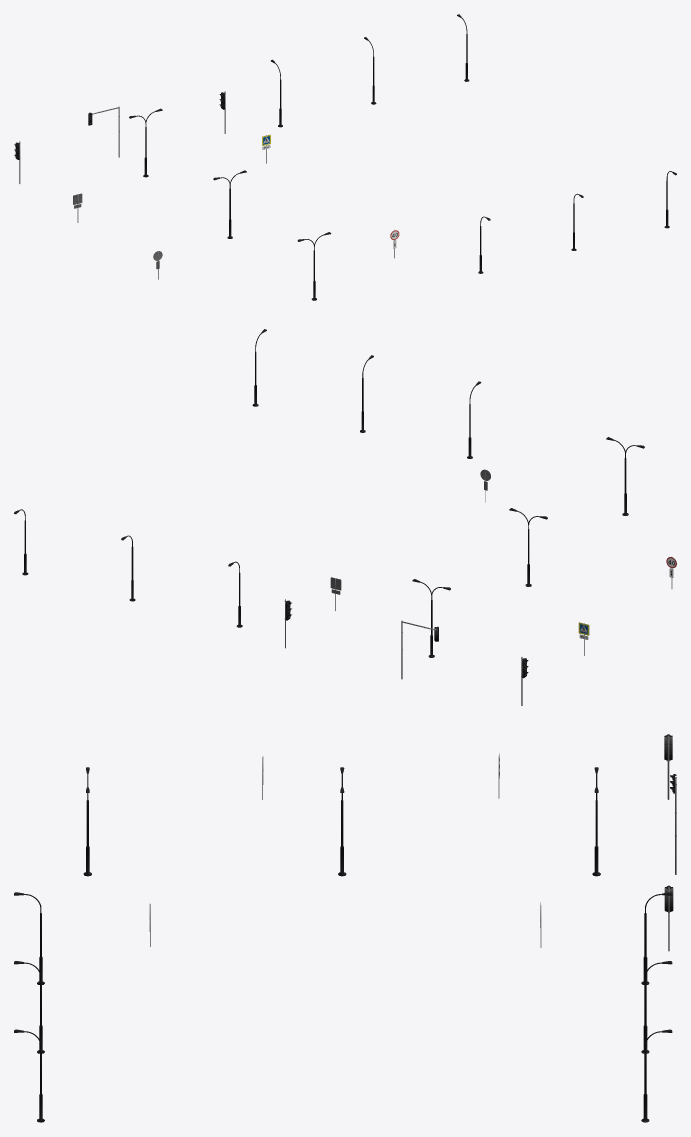
File: SemaforoPostes,LetrerosExtra.fbx
The picture shows the model from 3 angles, top to bottom: view 1: azimuth 30°, elevation 25°; view 2: azimuth 150°, elevation 25°; view 3: azimuth 270°, elevation 25°; orthographic projection. The views are drawn at different scales.
Visible parts, largest first — view 1: Poste,Semaforo,Extras; view 2: Poste,Semaforo,Extras; view 3: Poste,Semaforo,Extras.
Boxes of the visible parts, x1,y1,x2,y2 form: Poste,Semaforo,Extras: (14,14,676,300); Poste,Semaforo,Extras: (14,329,676,705); Poste,Semaforo,Extras: (14,734,676,1122).
Size of the model in its own units: 3642 by 496 by 3097.
1 material, 1 textured.
